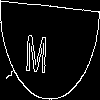M: (25, 24, 48, 74)
